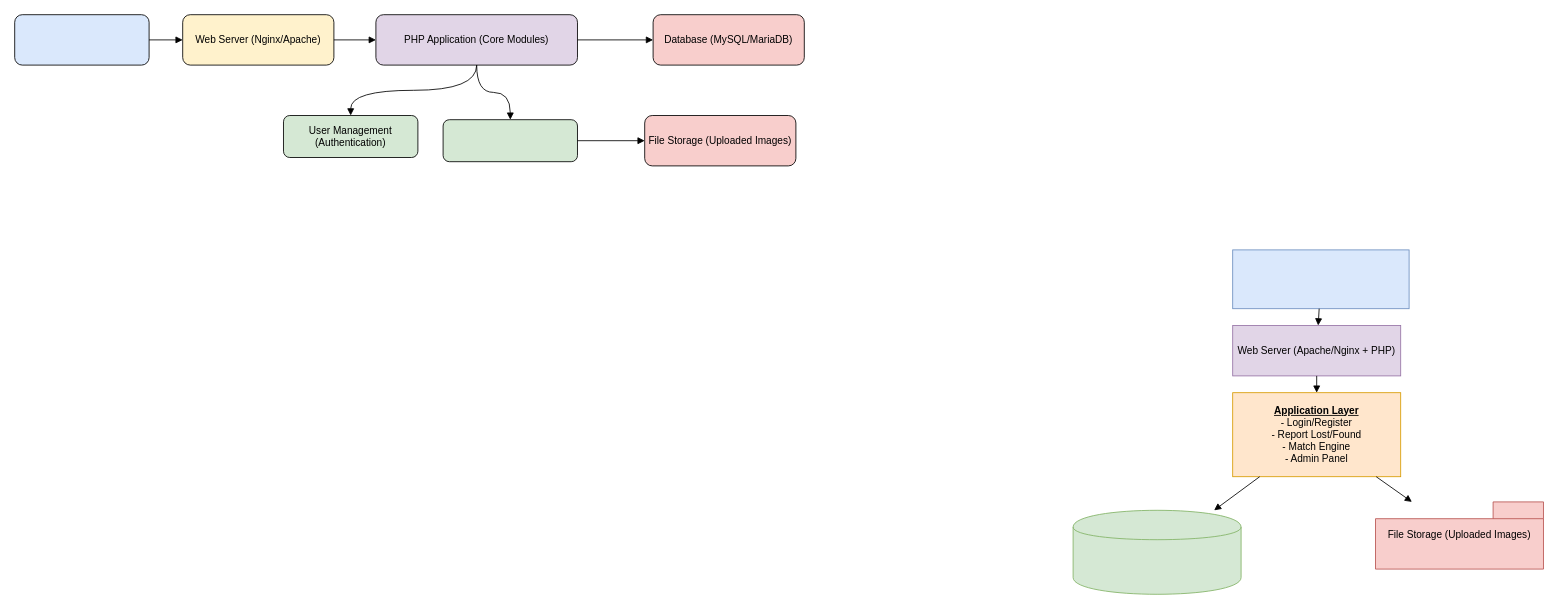
This 1558x609 diagram has some shape labels left out. The shapes that lost their labels are listed below. From the top down, each one's centre as x and y in pixels, then its label:
At point (81, 39): "Browser/Client (Web/Mobile)".
At point (510, 140): "Item Management (Post, Update, Delete)".
At point (1320, 279): "Web Browser (HTML/CSS)".
At point (1156, 551): "Database (MySQL) - Users - Lost Items - Found Items - Matches".
